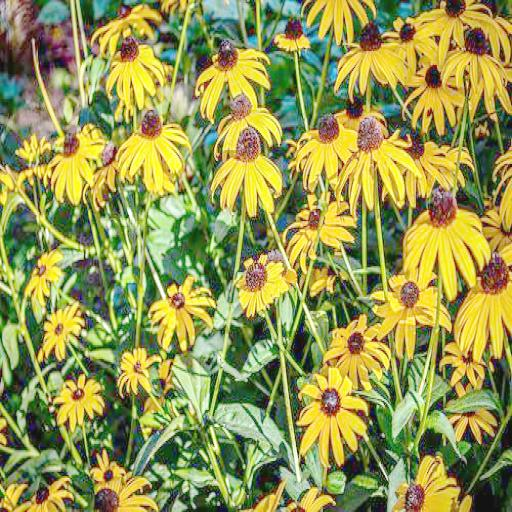sunflower: (406, 186, 490, 296), (296, 364, 369, 468), (368, 269, 454, 354), (339, 118, 418, 210), (209, 128, 284, 216), (282, 190, 356, 271), (118, 111, 188, 195), (194, 39, 272, 113), (145, 274, 216, 351), (335, 24, 408, 98), (404, 45, 465, 131), (47, 122, 107, 203), (324, 316, 390, 388), (105, 37, 165, 110), (52, 372, 102, 428), (236, 255, 282, 314), (39, 303, 83, 362), (118, 346, 162, 398), (26, 249, 64, 303)
